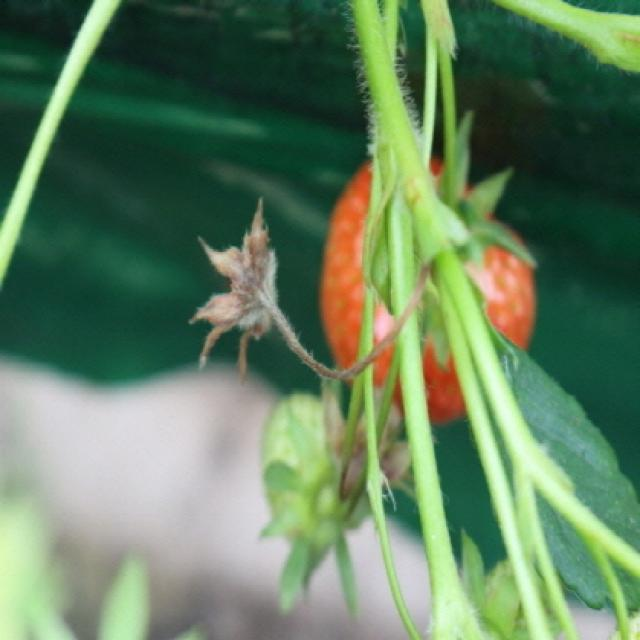Gray Mold: (187, 196, 293, 385)
